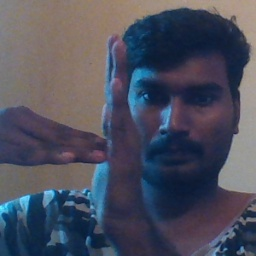Z: (20, 31, 151, 229)
